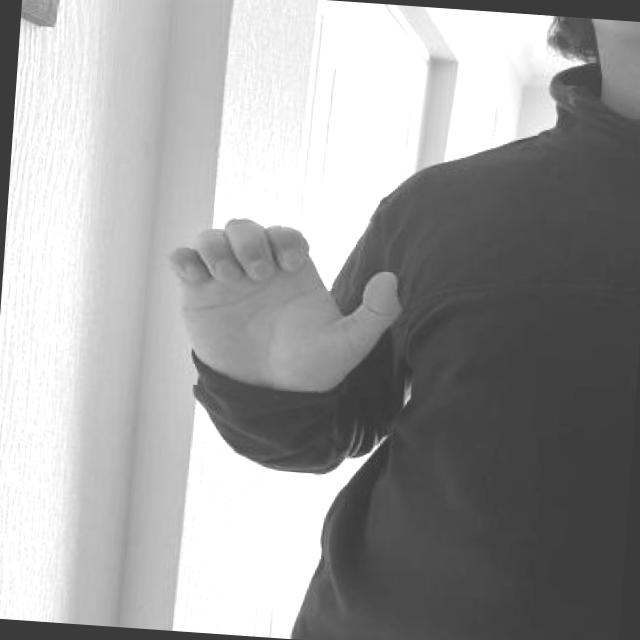E: (157, 202, 416, 399)
